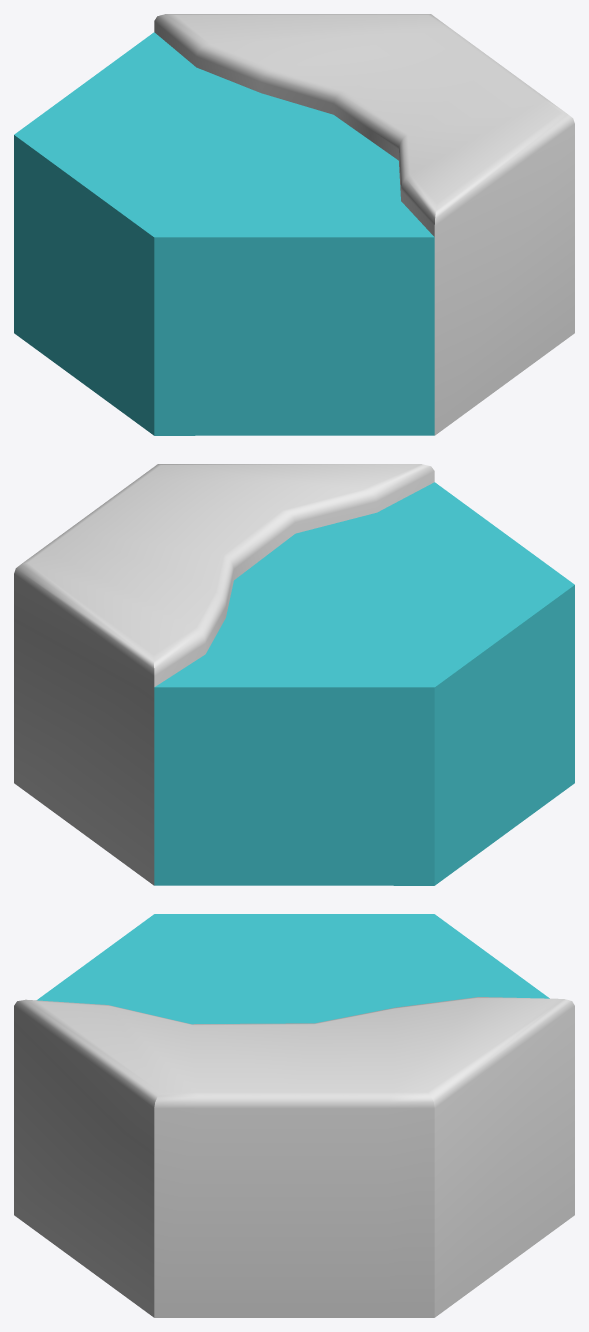
Rendered from hex_snow_waterC.gltf.glb.
3 renders of one model, top to bottom at view 1: azimuth 30°, elevation 25°; view 2: azimuth 150°, elevation 25°; view 3: azimuth 270°, elevation 25°, orthographic.
Visible parts, largest first — view 1: hex_snow_waterC; view 2: hex_snow_waterC; view 3: hex_snow_waterC.
Boxes of the visible parts, <box> form: hex_snow_waterC: <box>14,14,574,435</box>; hex_snow_waterC: <box>14,464,574,885</box>; hex_snow_waterC: <box>14,914,574,1317</box>.
Size of the model in its own units: 2 by 1 by 2.31.
